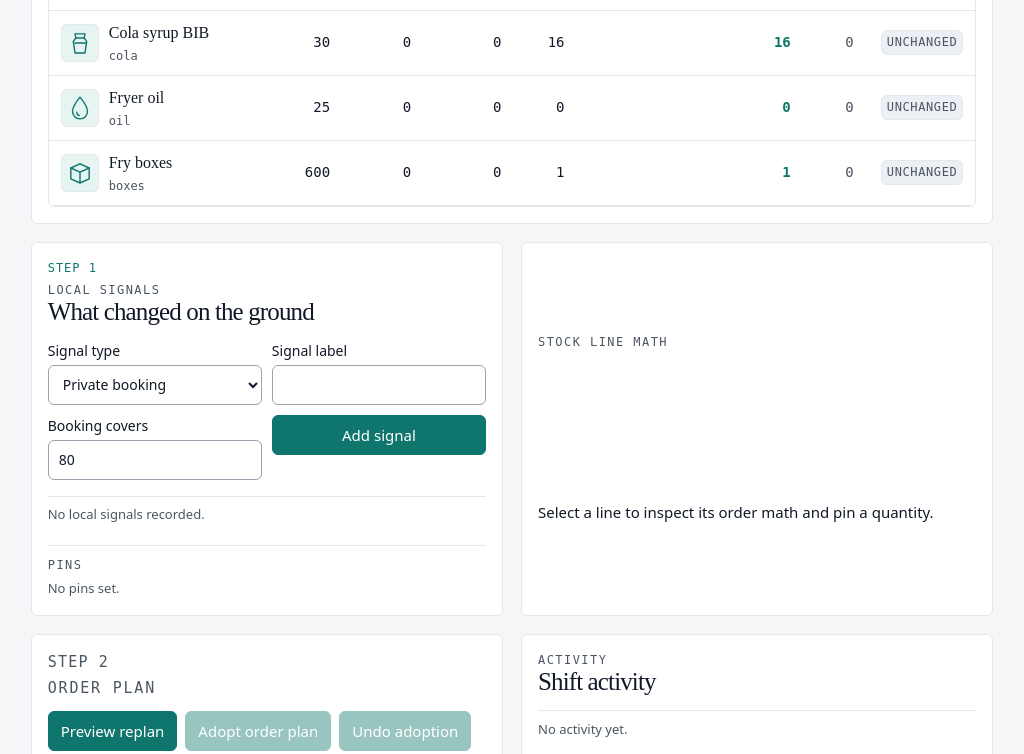
Test case: order review UI › shows an inline error when booking covers are invalid
(page scrolled)
Type "Private booking" into the field labelled "Signal label" at (379, 385), box [272, 365, 486, 405]
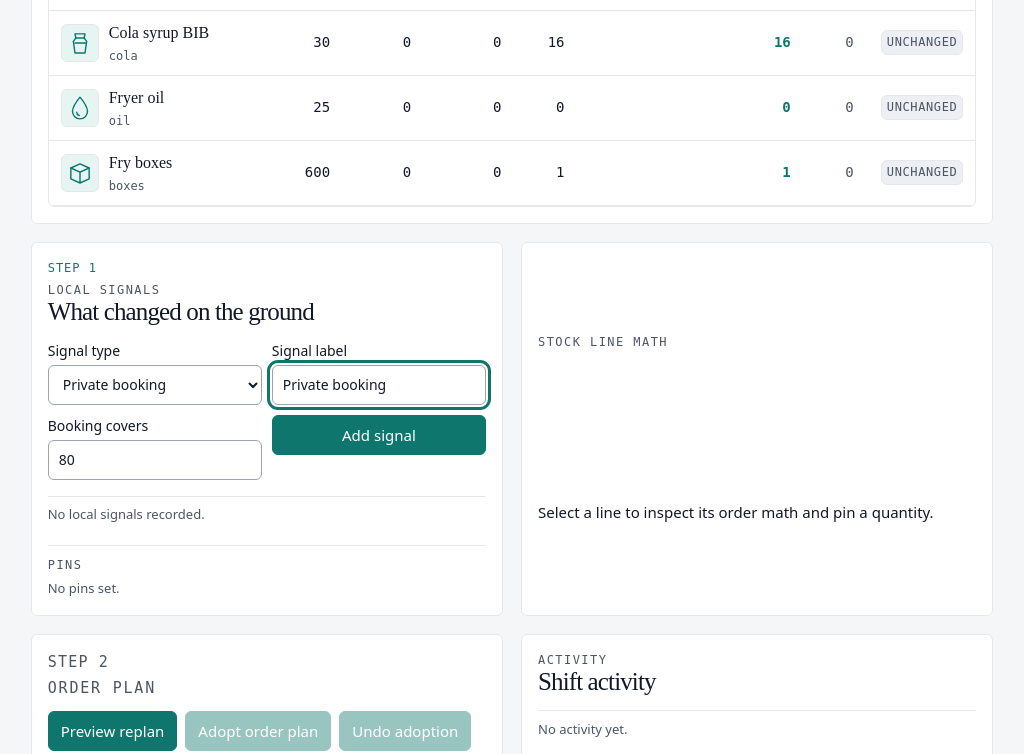
Clear the number field labelled "Booking covers" at (155, 460), box [48, 440, 262, 480]
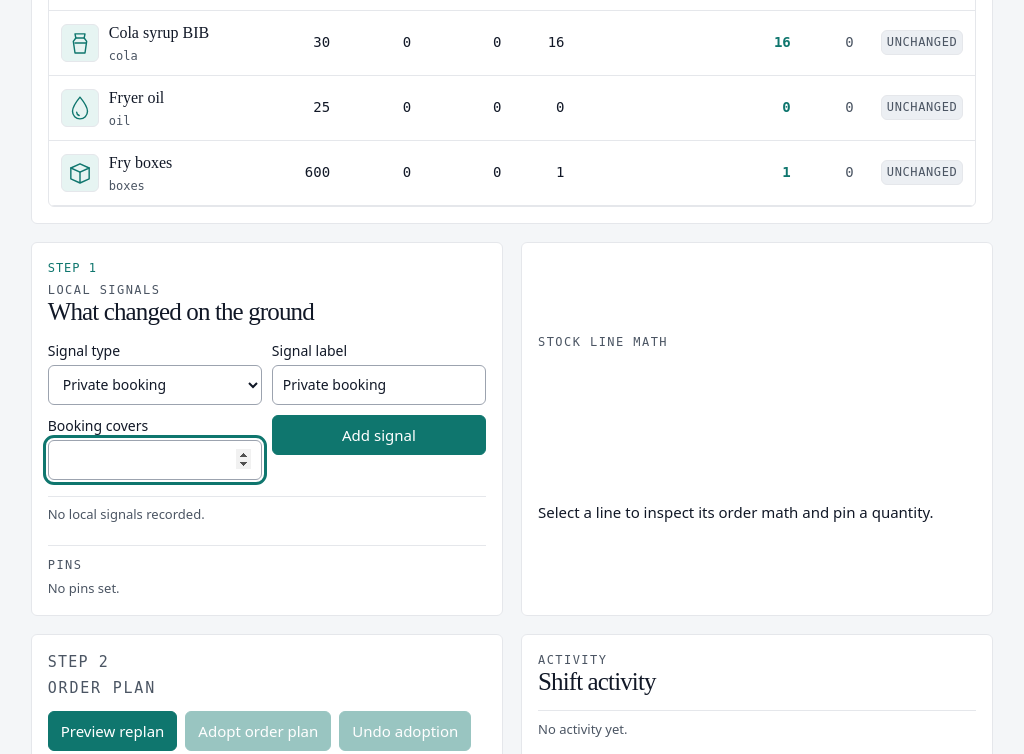
Click the button "Add signal" at (379, 435), box [272, 415, 486, 455]
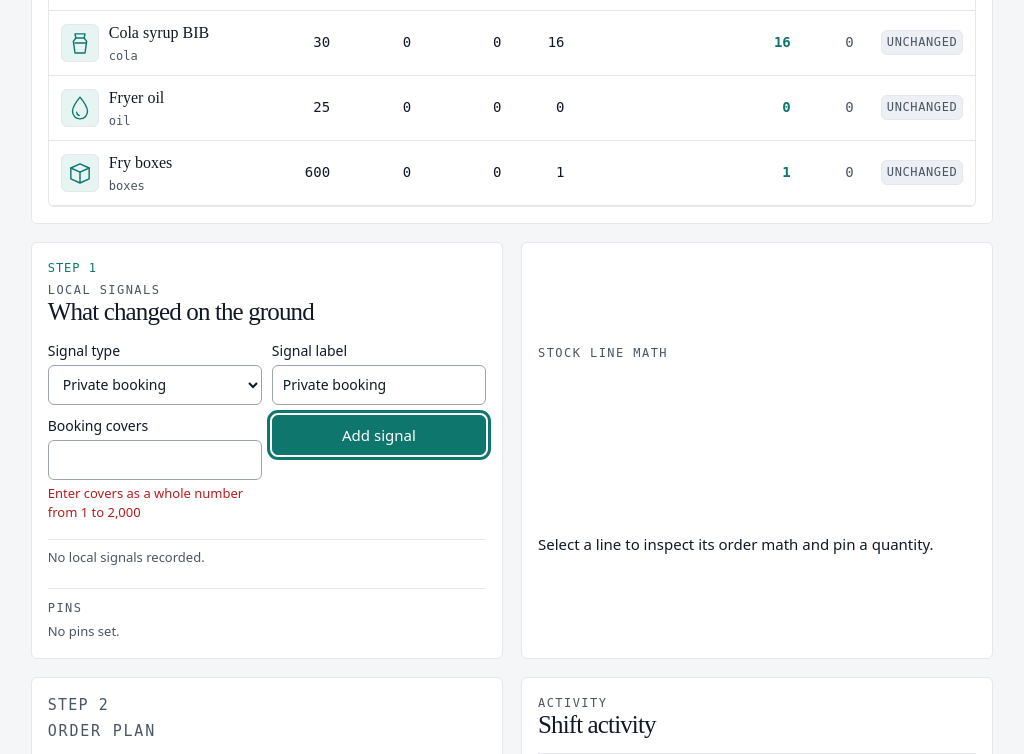
Expected: the text "Enter covers as a whole number from 1 to 2,000" is shown, [48, 484, 262, 523]
